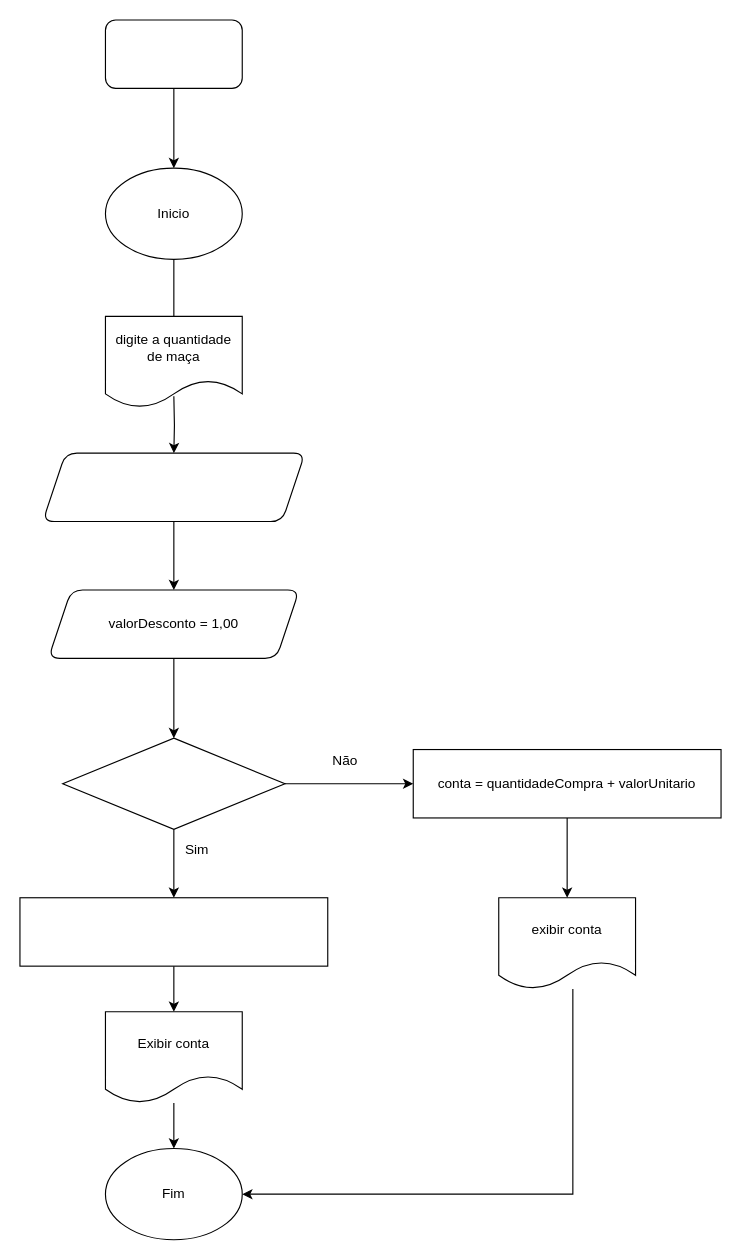
Image size: 741x1260. Some labels were removed from this diagram. Here are the shapes that lost their labels. From the top down, the centre of each, then its label:
[173,53]: CustoDaMaça
[173,487]: valorUnitario = 1,30)
[173,783]: quantidadeCompra >= 12
[173,931]: conta = quantidadeCompra + valorDesconto
